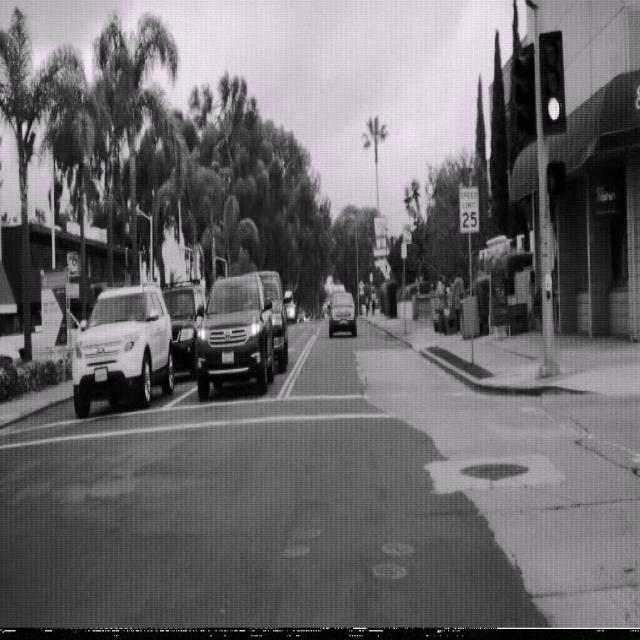speedLimit25: (459, 185, 480, 233)
